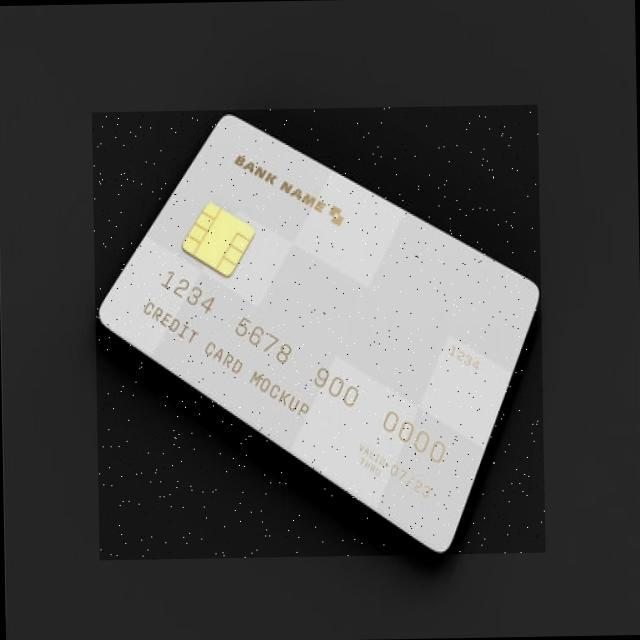payment_card: (95, 111, 540, 554)
